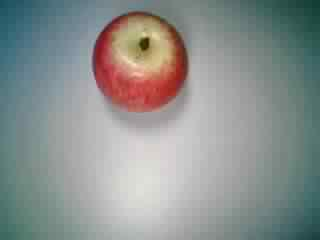apple: (92, 8, 196, 112)
